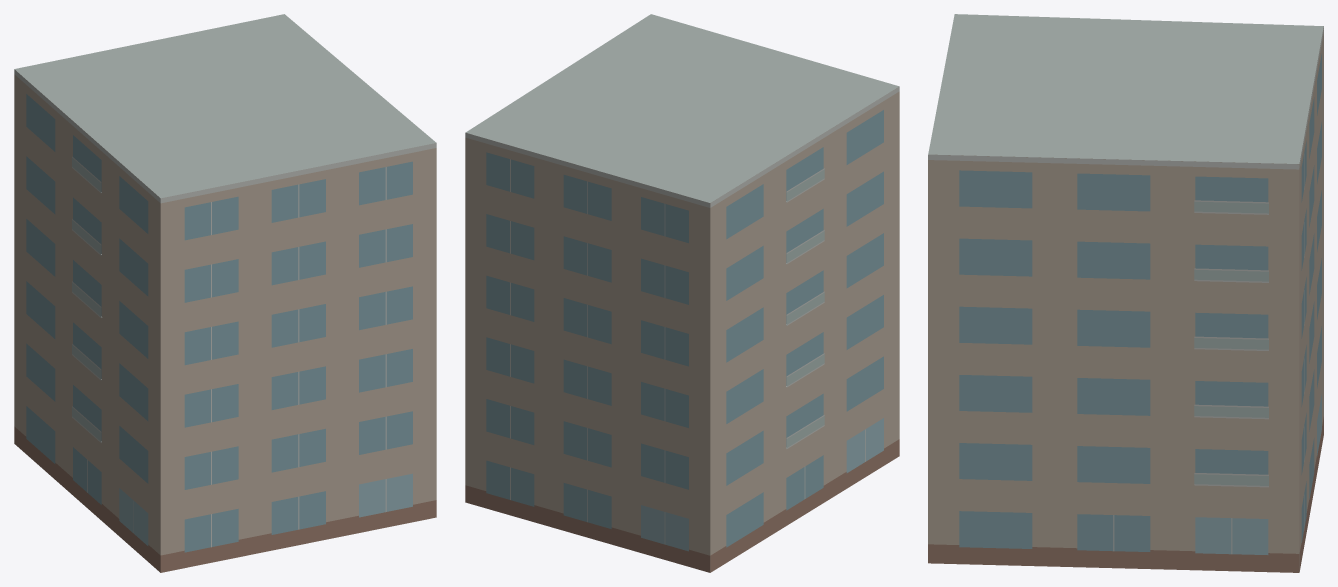
Rendered from survey-upis-32766272.glb.
The picture shows the model from 3 angles, left to right: view 1: azimuth 30°, elevation 25°; view 2: azimuth 150°, elevation 25°; view 3: azimuth 270°, elevation 25°; orthographic projection. The views are drawn at different scales.
Parts seen in each view (by area): view 1: survey-upis-32766272.tmp; view 2: survey-upis-32766272.tmp; view 3: survey-upis-32766272.tmp.
Part boxes in pixels (box(x1,y1,x2,y2)): survey-upis-32766272.tmp: box(14, 14, 436, 572); survey-upis-32766272.tmp: box(465, 14, 899, 572); survey-upis-32766272.tmp: box(928, 14, 1323, 572).
Bounding box in the file's own units: 14.42 × 18.3 × 16.07.
